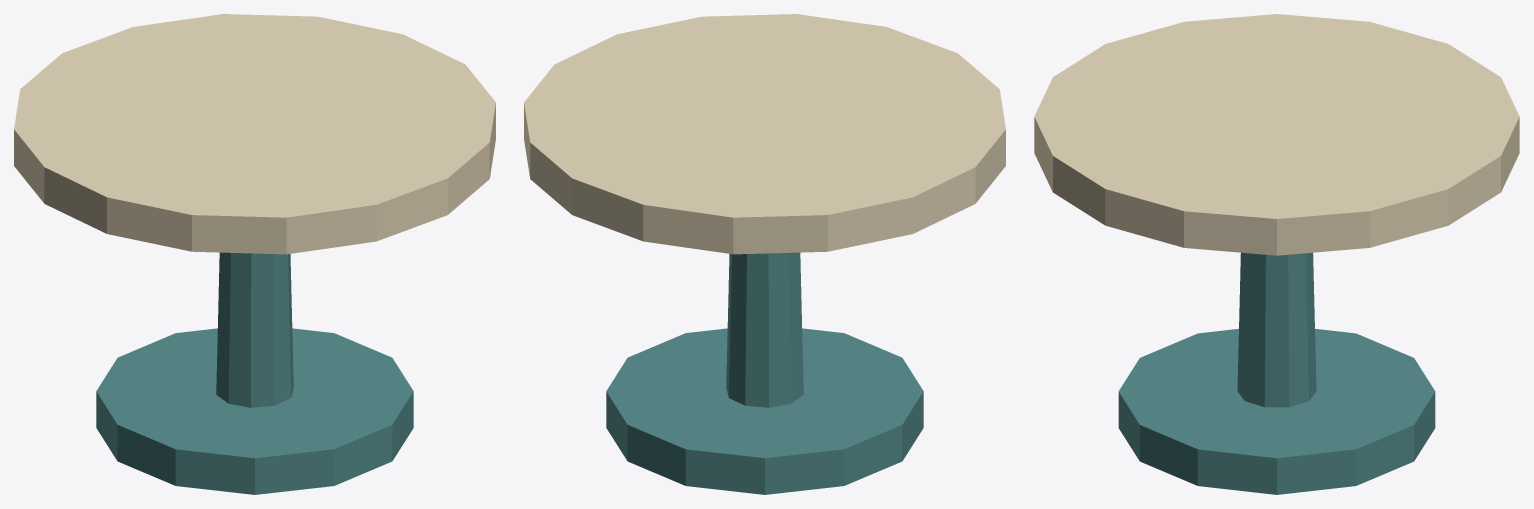
File: hsc3_cafe_table.glb
3 views of the same model, side by side, from view 1: azimuth 30°, elevation 25°; view 2: azimuth 150°, elevation 25°; view 3: azimuth 270°, elevation 25° (orthographic).
Parts seen in each view (by area): view 1: hsc3_cafe_table__hsc3-cream-enamel, hsc3_cafe_table__hsc3-deep-teal; view 2: hsc3_cafe_table__hsc3-cream-enamel, hsc3_cafe_table__hsc3-deep-teal; view 3: hsc3_cafe_table__hsc3-cream-enamel, hsc3_cafe_table__hsc3-deep-teal.
Part boxes in pixels (x1,y1,x2,y2): hsc3_cafe_table__hsc3-cream-enamel: (14, 14, 495, 254); hsc3_cafe_table__hsc3-deep-teal: (96, 252, 413, 494); hsc3_cafe_table__hsc3-cream-enamel: (524, 14, 1005, 254); hsc3_cafe_table__hsc3-deep-teal: (606, 252, 923, 494); hsc3_cafe_table__hsc3-cream-enamel: (1034, 14, 1519, 255); hsc3_cafe_table__hsc3-deep-teal: (1118, 252, 1435, 494).
Bounding box in the file's own units: 1.44 × 1.02 × 1.44.
